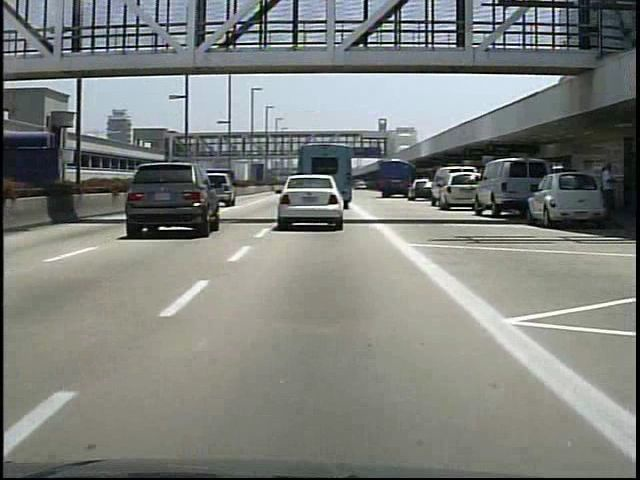person: (598, 153, 625, 230)
